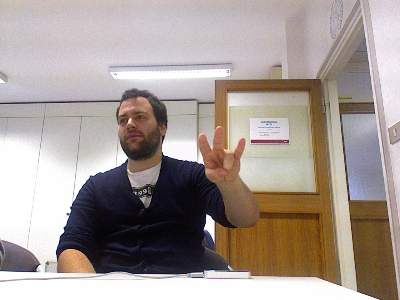观音: (196, 124, 246, 184)
